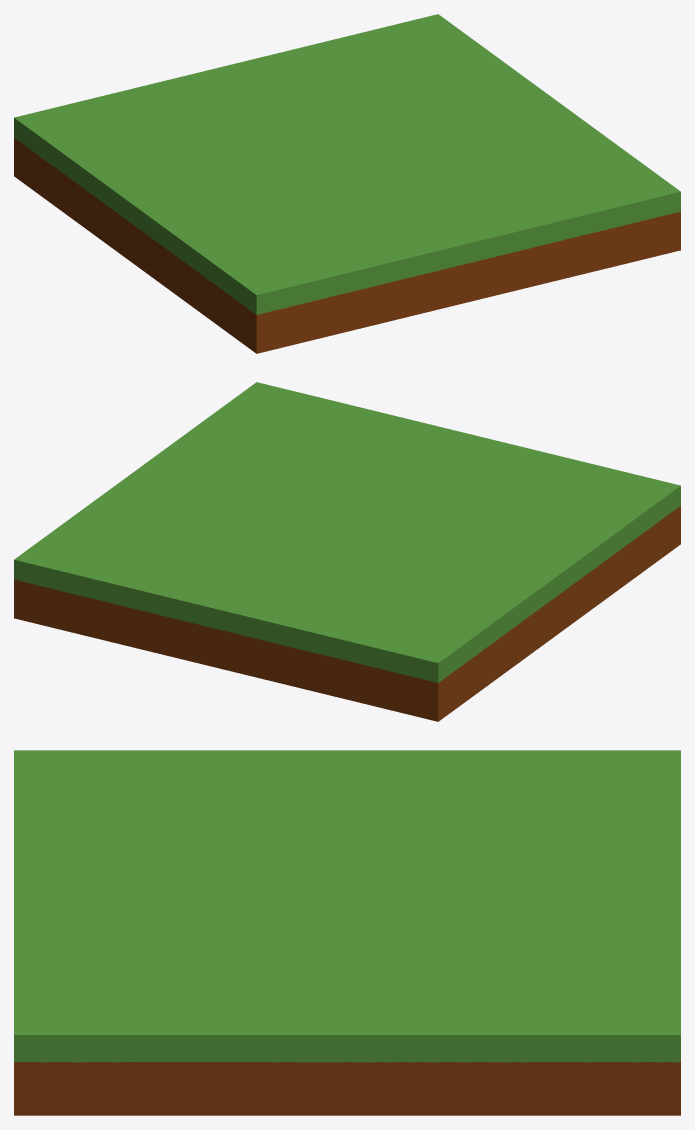
File: largegrass.glb
3 views of the same model, one above another, from view 1: azimuth 30°, elevation 25°; view 2: azimuth 150°, elevation 25°; view 3: azimuth 270°, elevation 25° (orthographic). The views are drawn at different scales.
Visible parts, largest first — view 1: grass, dirt; view 2: grass, dirt; view 3: grass, dirt.
Boxes of the visible parts, <box> form: grass: <box>14,14,680,315</box>; dirt: <box>14,137,680,353</box>; grass: <box>14,382,680,683</box>; dirt: <box>14,505,680,721</box>; grass: <box>14,750,680,1062</box>; dirt: <box>14,1062,680,1115</box>.
Bounding box in the file's own units: 8.52 × 1.13 × 8.44.
